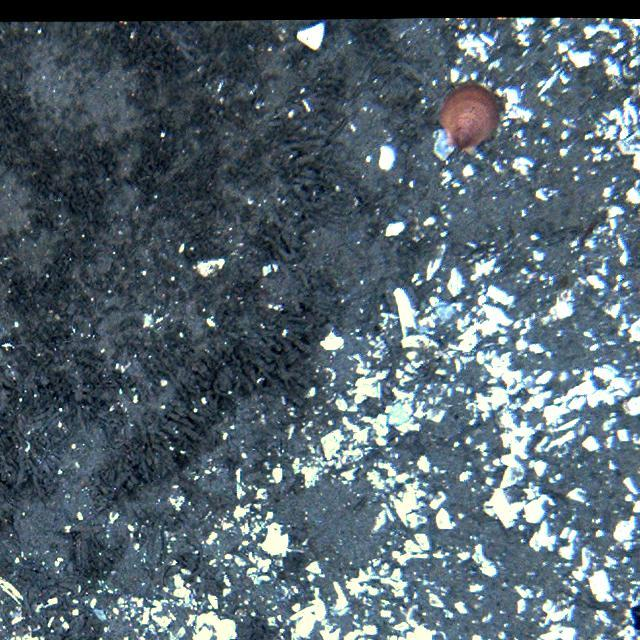scallop: (434, 81, 500, 153)
